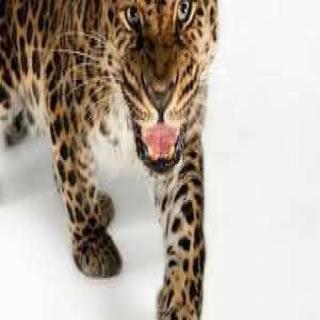Leopard: (2, 1, 223, 320)
